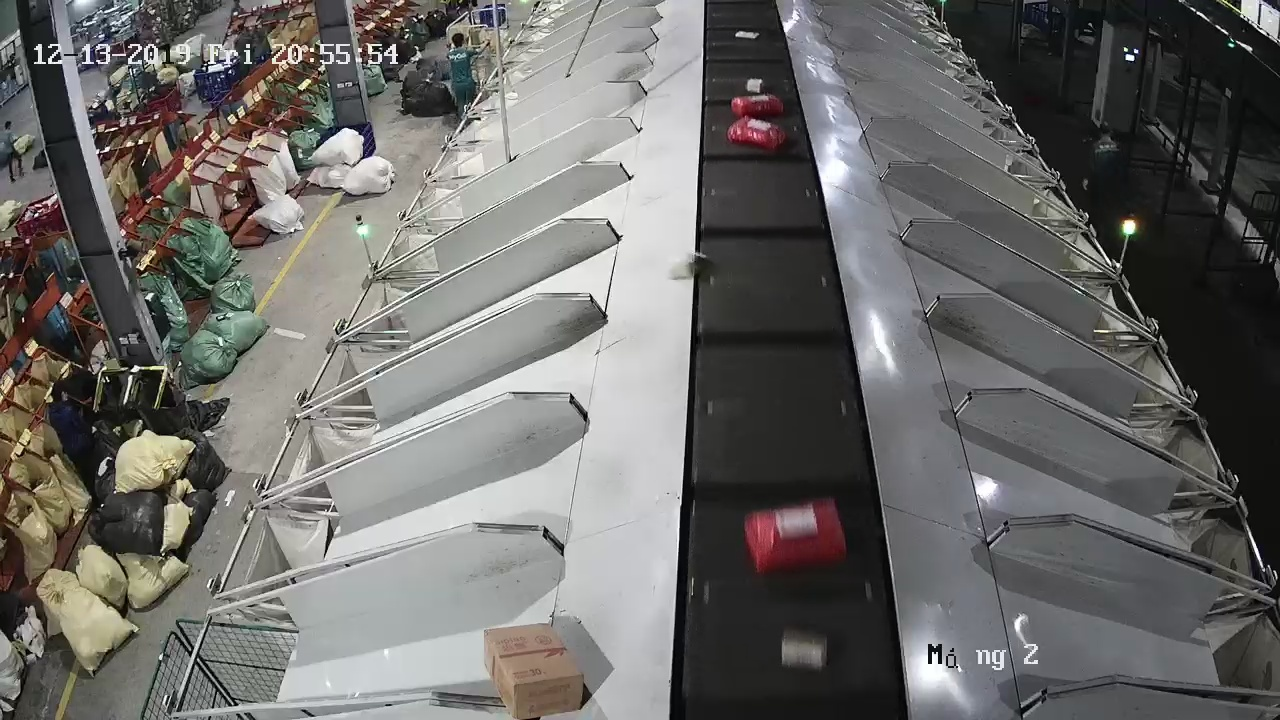parcel: (666, 249, 709, 279)
